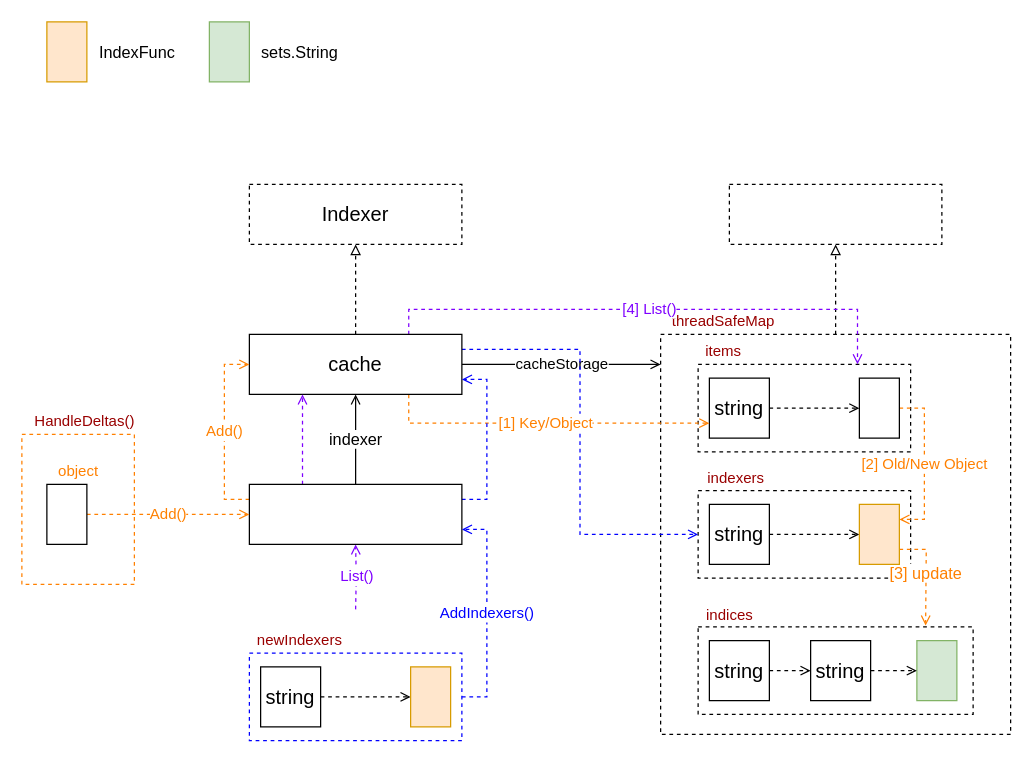
The diagram is 1033 pixels wide and 763 high, and some of its shapes have lost their labels. Each missing label, with the centre of its shape:
"sharedIndexInformer" goes at (355,513).
"ThreadSafeStore" goes at (835,213).
